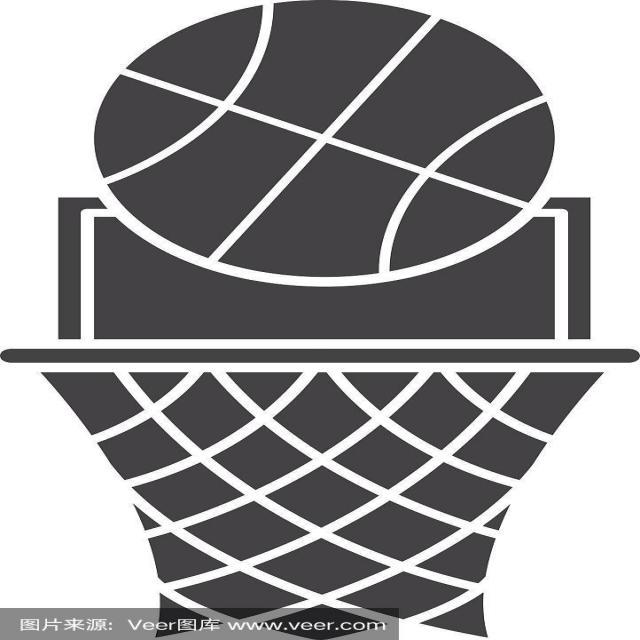rim: (99, 2, 558, 274)
